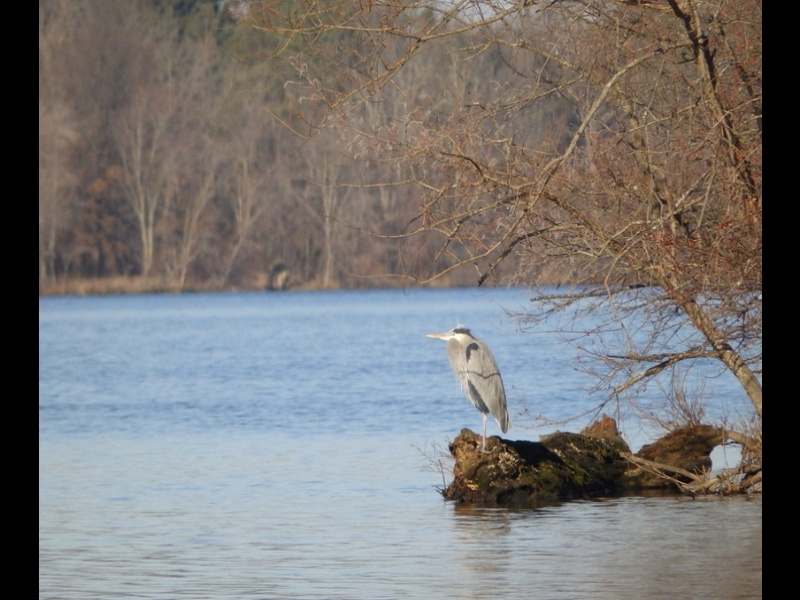heron: (424, 326, 512, 455)
